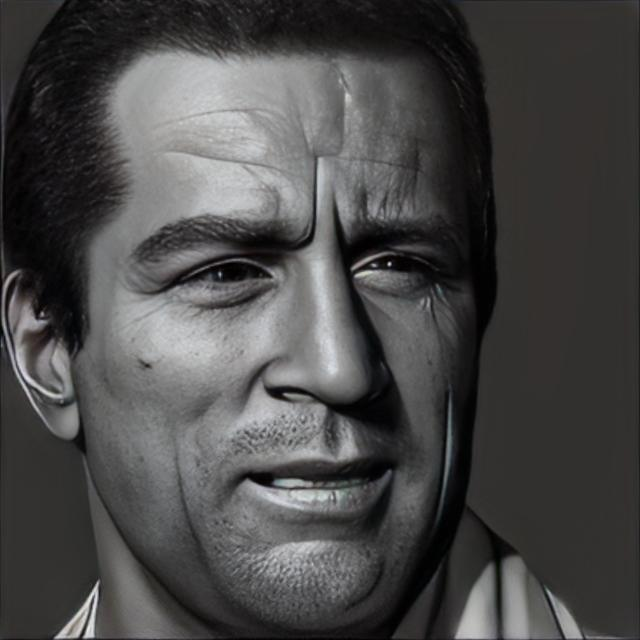disgust: (71, 43, 484, 624)
